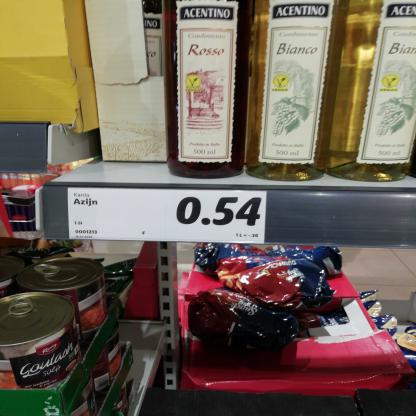prtg: (69, 189, 268, 245)
